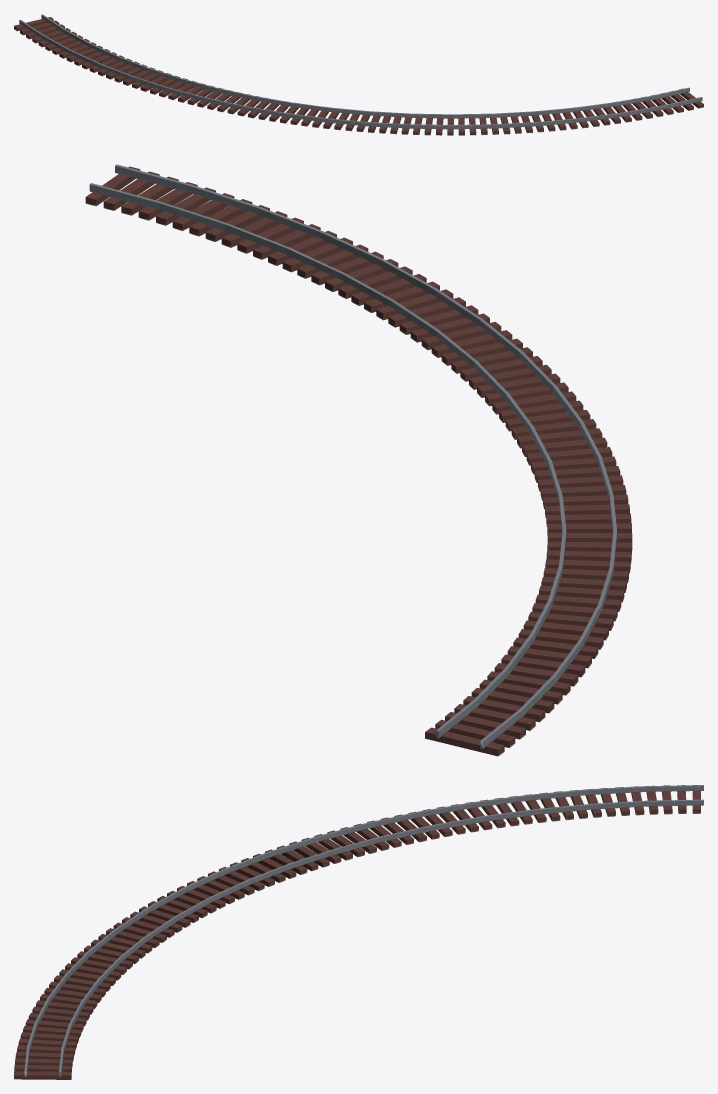
The model's file is curve-12-track.blend.glb.
3 renders of one model, top to bottom at view 1: azimuth 30°, elevation 25°; view 2: azimuth 150°, elevation 25°; view 3: azimuth 270°, elevation 25°, orthographic. The views are drawn at different scales.
Parts seen in each view (by area): view 1: curve-12; view 2: curve-12; view 3: curve-12.
Boxes of the visible parts, box(x1,y1,x2,y2) form: curve-12: box(14, 14, 703, 135); curve-12: box(85, 164, 632, 756); curve-12: box(14, 785, 703, 1079).
Size of the model in its own units: 24 by 0.3391 by 24.
1 material, 1 textured.
